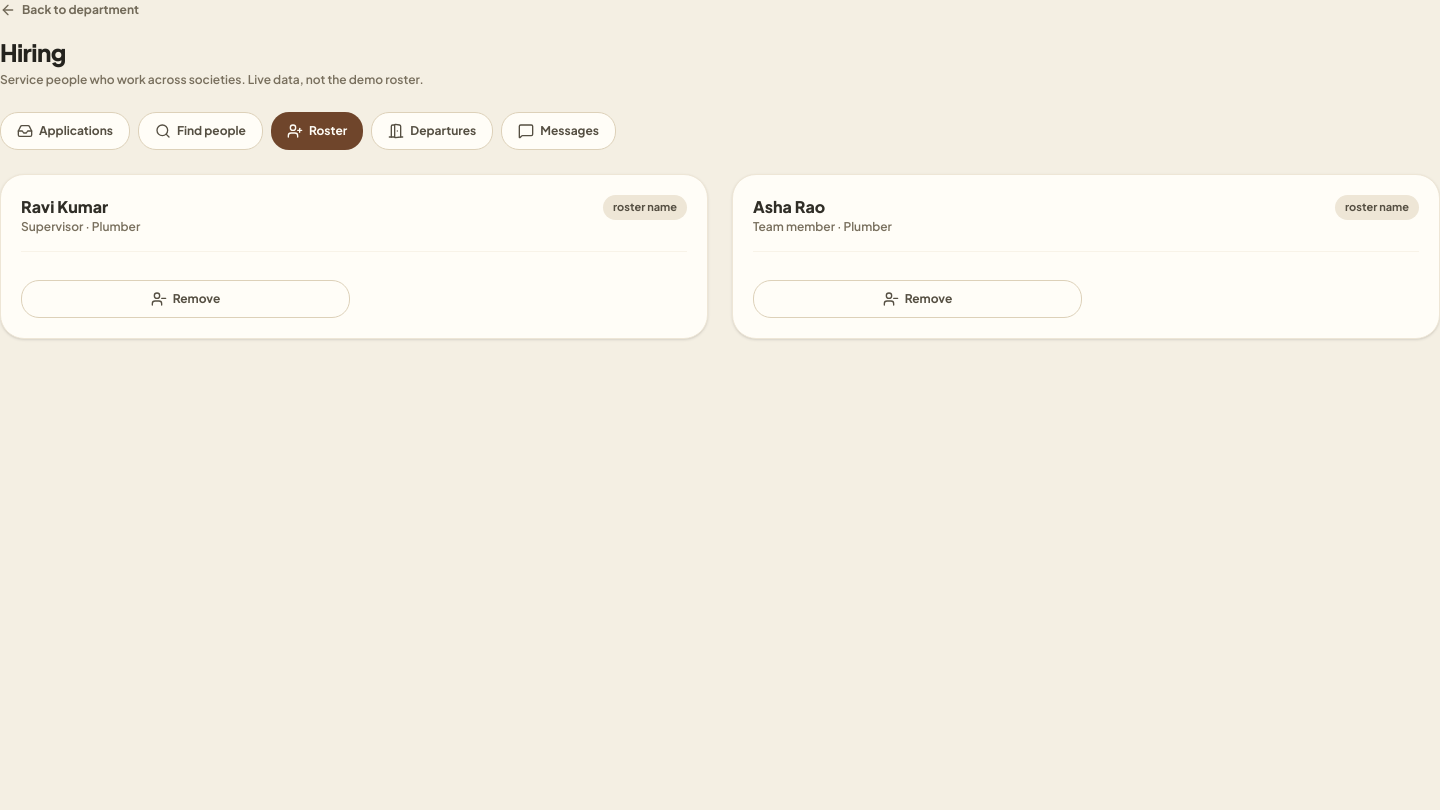
it: the confirmation sheet › warns when this is the department’s last supervisor
The image size is (1440, 810).
Click the button "Remove" below "Supervisor".
click(186, 299)  # box [21,280,350,318]
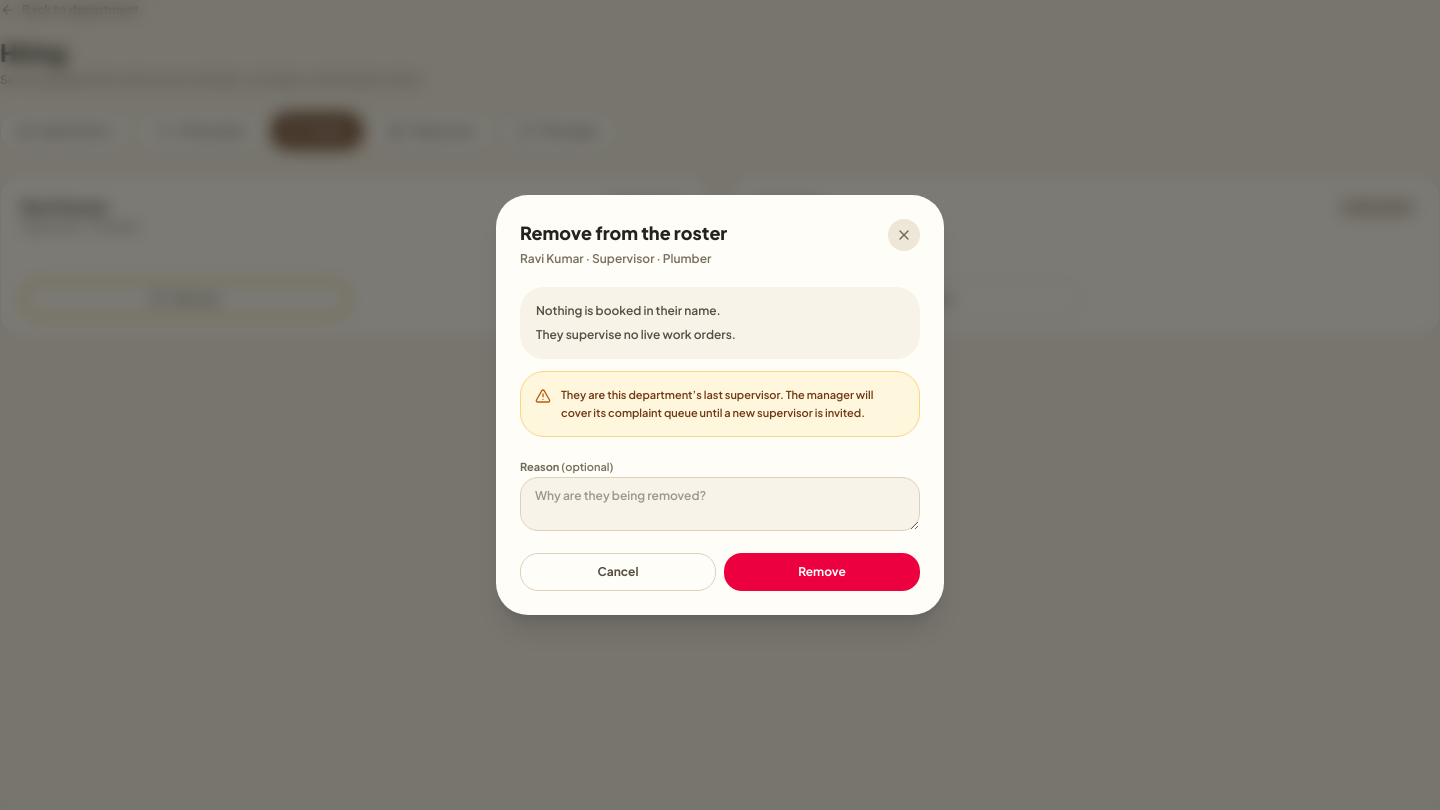
Now the dialog shows "last supervisor", box [561,388,873,419]
